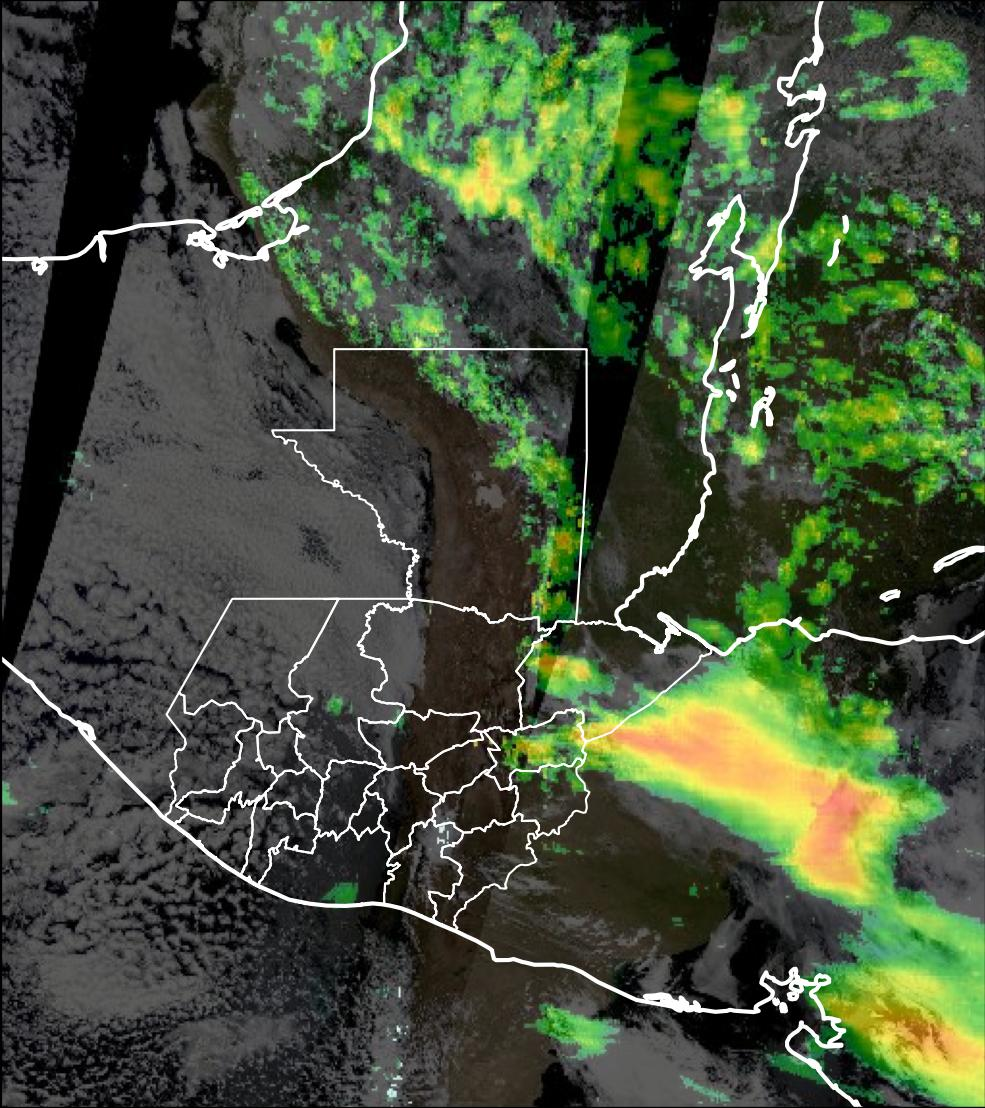precipitacion: (589, 700, 875, 907)
